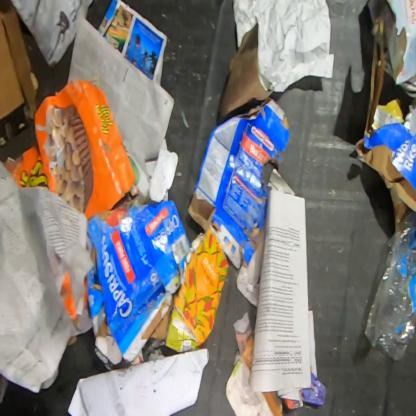cardboard: (10, 76, 136, 220), (187, 96, 291, 270), (86, 200, 192, 365), (354, 34, 415, 234), (164, 227, 230, 353), (0, 0, 40, 151)
soft_plastic: (363, 209, 415, 362)
